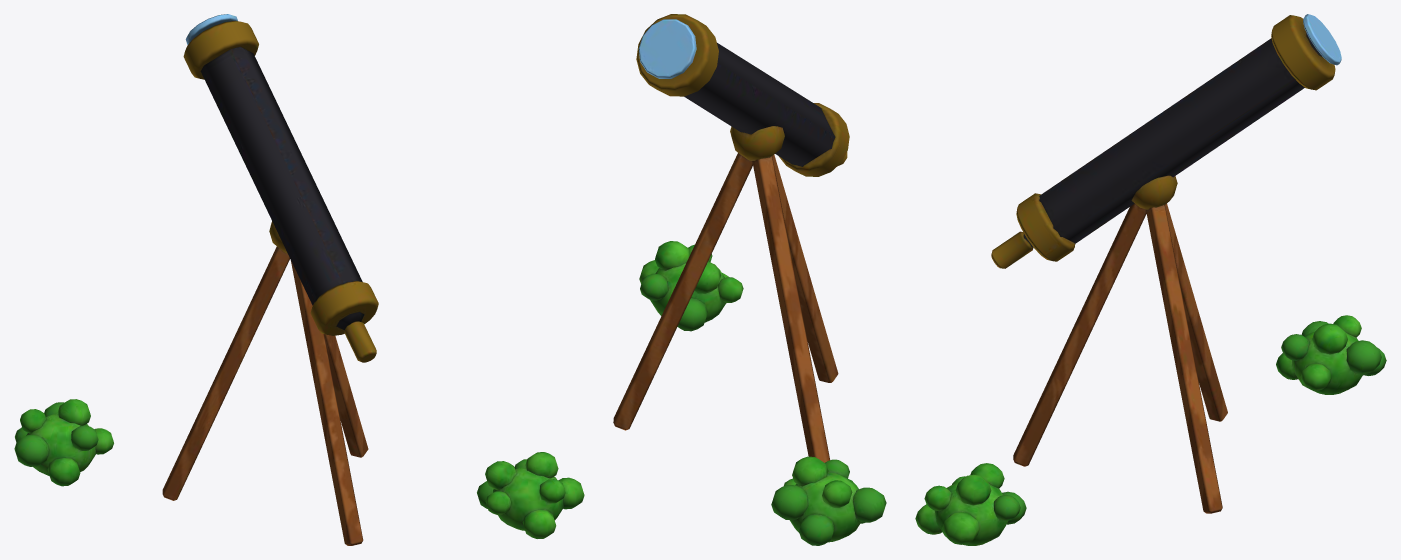
File: telescope.glb
The picture shows the model from 3 angles, left to right: view 1: azimuth 30°, elevation 25°; view 2: azimuth 150°, elevation 25°; view 3: azimuth 270°, elevation 25°; orthographic projection. The views are drawn at different scales.
Visible parts, largest first — view 1: telescope; view 2: telescope; view 3: telescope.
Boxes of the visible parts, <box> form: telescope: <box>14,14,584,545</box>; telescope: <box>613,14,886,545</box>; telescope: <box>915,14,1386,545</box>.
Size of the model in its own units: 0.7981 by 0.8323 by 0.7913.
1 material, 1 textured.
